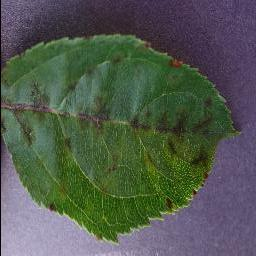apple healthy: (0, 31, 241, 244)
